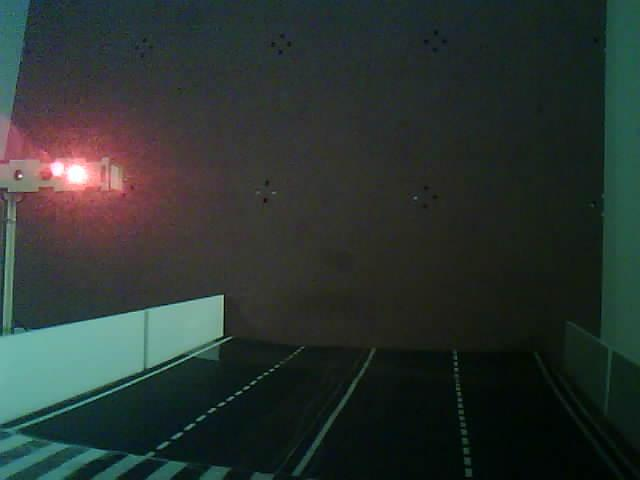crosswalk: (0, 384, 343, 480)
red: (0, 133, 114, 228)
